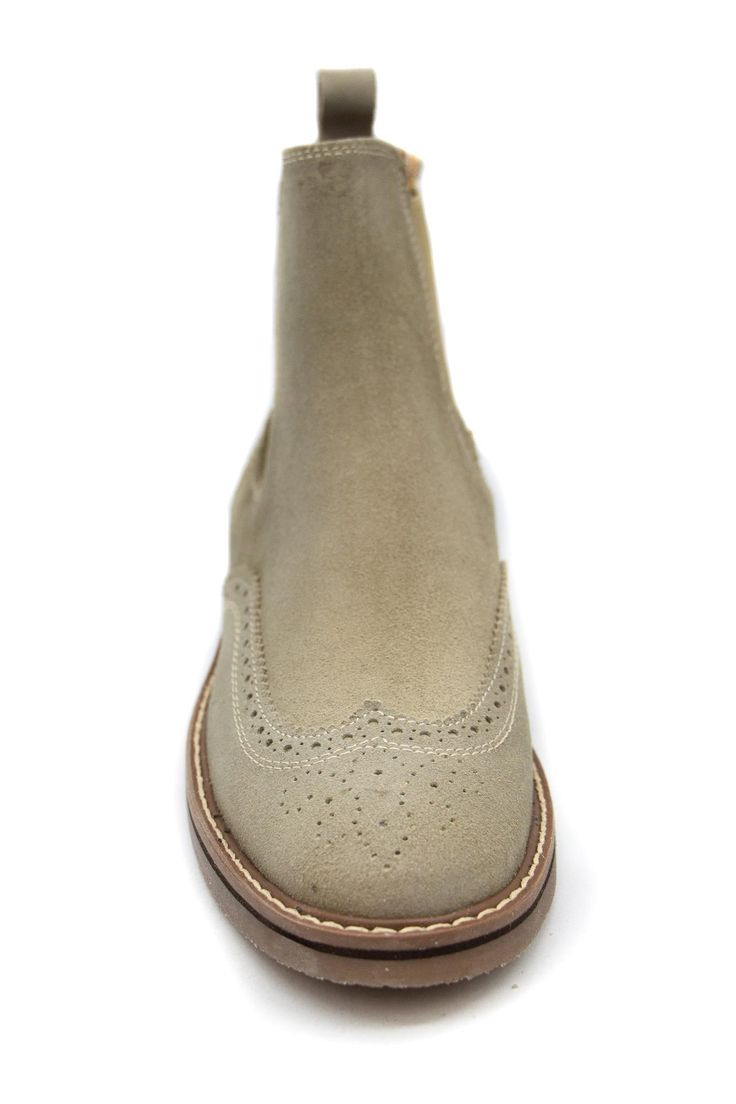gamuza: (227, 138, 504, 735)
